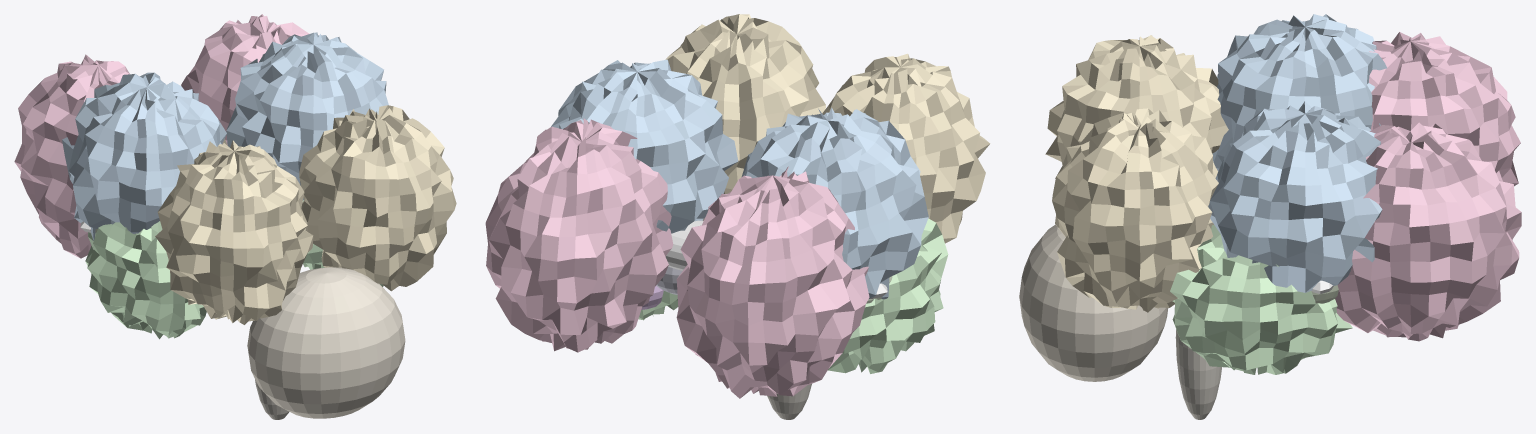
Rendered from brain_labeled_parts.glb.
The picture shows the model from 3 angles, left to right: view 1: azimuth 30°, elevation 25°; view 2: azimuth 150°, elevation 25°; view 3: azimuth 270°, elevation 25°; orthographic projection. The views are drawn at different scales.
Visible parts, largest first — view 1: lobulo_occipital_der, lobulo_occipital_izq, cerebelo, lobulo_parietal_izq, lobulo_parietal_der, lobulo_frontal_izq, lobulo_temporal_izq, lobulo_frontal_der, tronco_encefalico; view 2: lobulo_frontal_izq, lobulo_frontal_der, lobulo_parietal_izq, lobulo_parietal_der, lobulo_occipital_izq, lobulo_occipital_der, lobulo_temporal_izq, tronco_encefalico, cuerpo_calloso, lobulo_temporal_der; view 3: lobulo_frontal_der, lobulo_occipital_der, lobulo_parietal_der, lobulo_temporal_der, lobulo_parietal_izq, lobulo_occipital_izq, lobulo_frontal_izq, cerebelo, tronco_encefalico.
Boxes of the visible parts, bbox=[...] form: lobulo_occipital_der: bbox=[299, 105, 456, 291]; lobulo_occipital_izq: bbox=[155, 138, 313, 324]; cerebelo: bbox=[247, 267, 405, 418]; lobulo_parietal_izq: bbox=[62, 72, 226, 240]; lobulo_parietal_der: bbox=[226, 32, 388, 200]; lobulo_frontal_izq: bbox=[14, 54, 129, 258]; lobulo_temporal_izq: bbox=[85, 221, 206, 339]; lobulo_frontal_der: bbox=[181, 14, 309, 144]; tronco_encefalico: bbox=[255, 379, 289, 419]; lobulo_frontal_izq: bbox=[676, 166, 869, 398]; lobulo_frontal_der: bbox=[485, 118, 673, 352]; lobulo_parietal_izq: bbox=[741, 107, 928, 299]; lobulo_parietal_der: bbox=[551, 59, 738, 233]; lobulo_occipital_izq: bbox=[822, 53, 990, 243]; lobulo_occipital_der: bbox=[665, 14, 825, 193]; lobulo_temporal_izq: bbox=[828, 218, 948, 373]; tronco_encefalico: bbox=[767, 384, 811, 419]; cuerpo_calloso: bbox=[665, 220, 887, 299]; lobulo_temporal_der: bbox=[638, 291, 678, 320]; lobulo_frontal_der: bbox=[1335, 122, 1521, 341]; lobulo_occipital_der: bbox=[1052, 108, 1218, 312]; lobulo_parietal_der: bbox=[1208, 101, 1382, 292]; lobulo_temporal_der: bbox=[1170, 225, 1352, 374]; lobulo_parietal_izq: bbox=[1212, 14, 1386, 171]; lobulo_occipital_izq: bbox=[1045, 35, 1228, 178]; lobulo_frontal_izq: bbox=[1368, 32, 1520, 186]; cerebelo: bbox=[1019, 224, 1168, 381]; tronco_encefalico: bbox=[1175, 329, 1221, 419].
Bounding box in the file's own units: 1.32 × 1.3 × 1.67.
